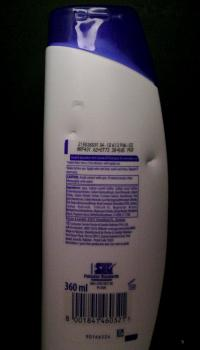dent_unacceptable: (144, 152, 160, 168), (69, 99, 87, 112), (66, 128, 80, 138)
